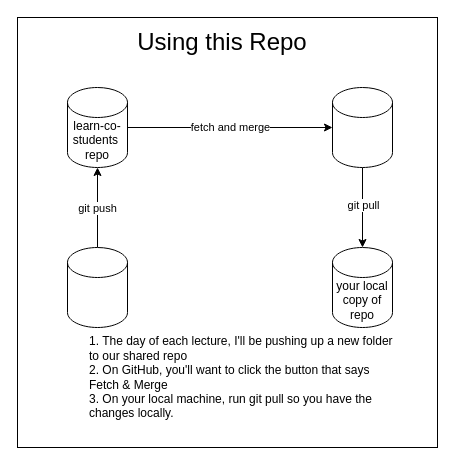
Some shapes in this 455 by 465 pixel diagram are drawn without their labels. Here are the shapes that lost their labels. From the top down, the box of each, then its label:
(332, 86, 392, 168): your fork of the repo
(66, 246, 128, 328): my local copy of repo
